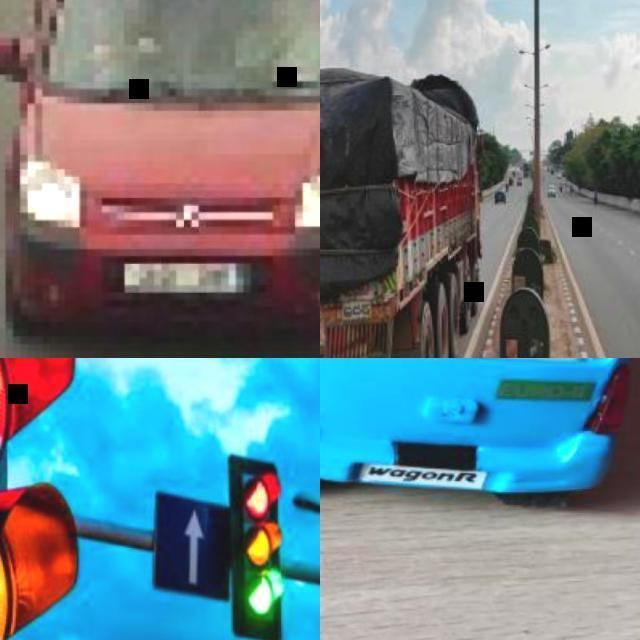car: (0, 0, 319, 357)
